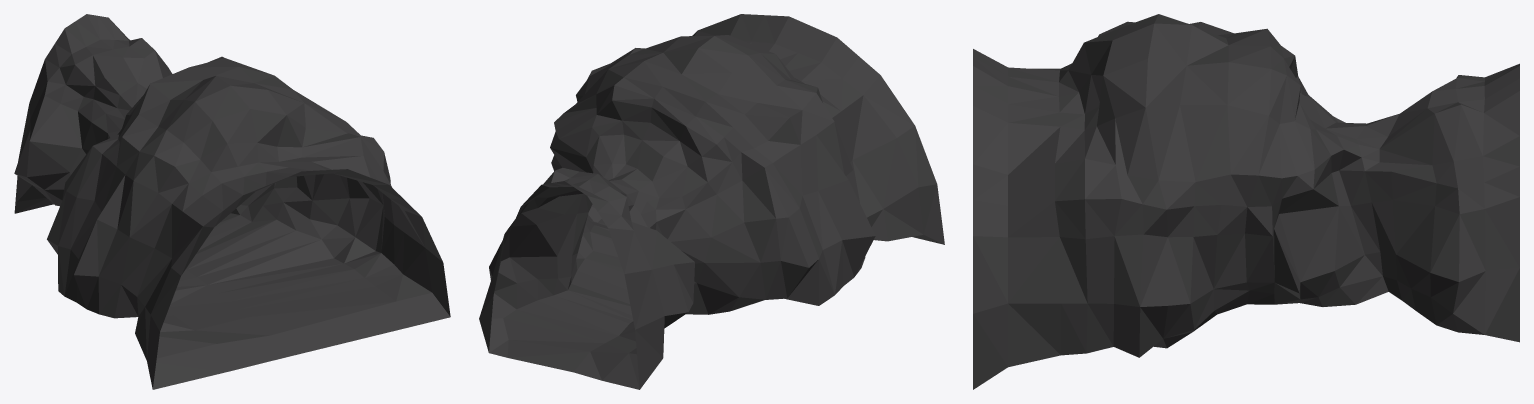
The model's file is Cave_Door_A_LOD_1.fbx.
3 views of the same model, side by side, from view 1: azimuth 30°, elevation 25°; view 2: azimuth 150°, elevation 25°; view 3: azimuth 270°, elevation 25° (orthographic). The views are drawn at different scales.
Visible parts, largest first — view 1: pCylinder517; view 2: pCylinder517; view 3: pCylinder517.
Boxes of the visible parts, x1=… form: pCylinder517: x1=14, y1=14, x2=450, y2=389; pCylinder517: x1=479, y1=14, x2=944, y2=389; pCylinder517: x1=973, y1=14, x2=1519, y2=389.
Size of the model in its own units: 8.43 by 5.72 by 10.32.
